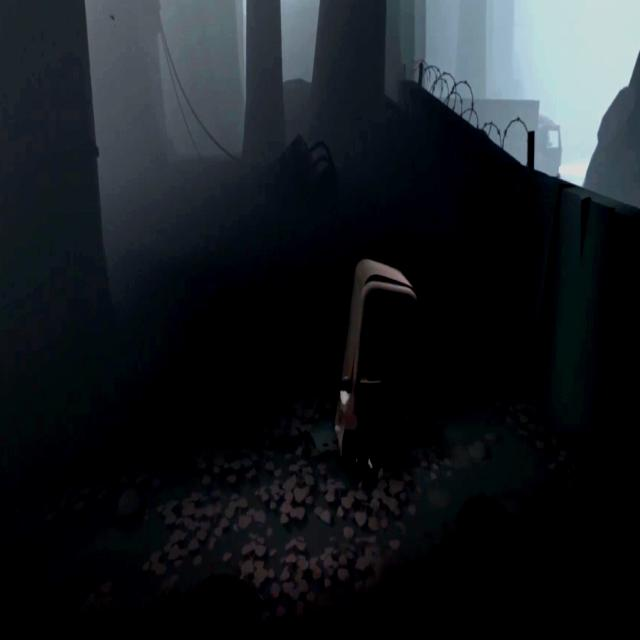boy: (332, 378, 374, 470)
